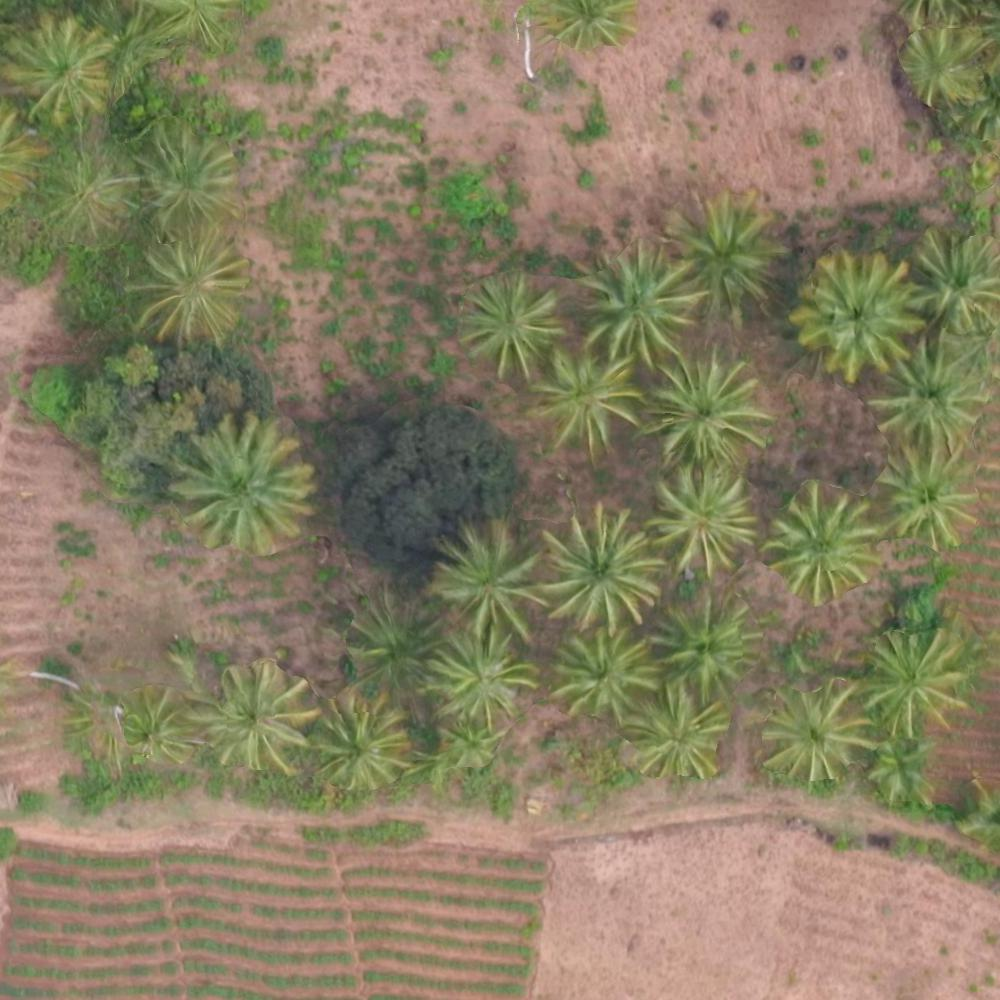Palm: (178, 413, 307, 547), (799, 250, 918, 374), (541, 508, 662, 628), (647, 351, 769, 467), (868, 338, 985, 455), (428, 524, 543, 638), (769, 484, 880, 595), (665, 191, 778, 300), (201, 665, 316, 768), (587, 249, 698, 355), (133, 234, 245, 338), (136, 123, 243, 226), (760, 684, 870, 784), (344, 595, 450, 698), (3, 17, 108, 117), (532, 348, 637, 448), (421, 635, 535, 727), (652, 471, 753, 572), (865, 631, 964, 733), (876, 449, 981, 544), (459, 275, 555, 371), (314, 695, 410, 788), (624, 688, 729, 772), (657, 599, 752, 688), (911, 232, 1000, 325), (553, 635, 654, 713), (43, 152, 133, 233), (119, 693, 193, 769)
